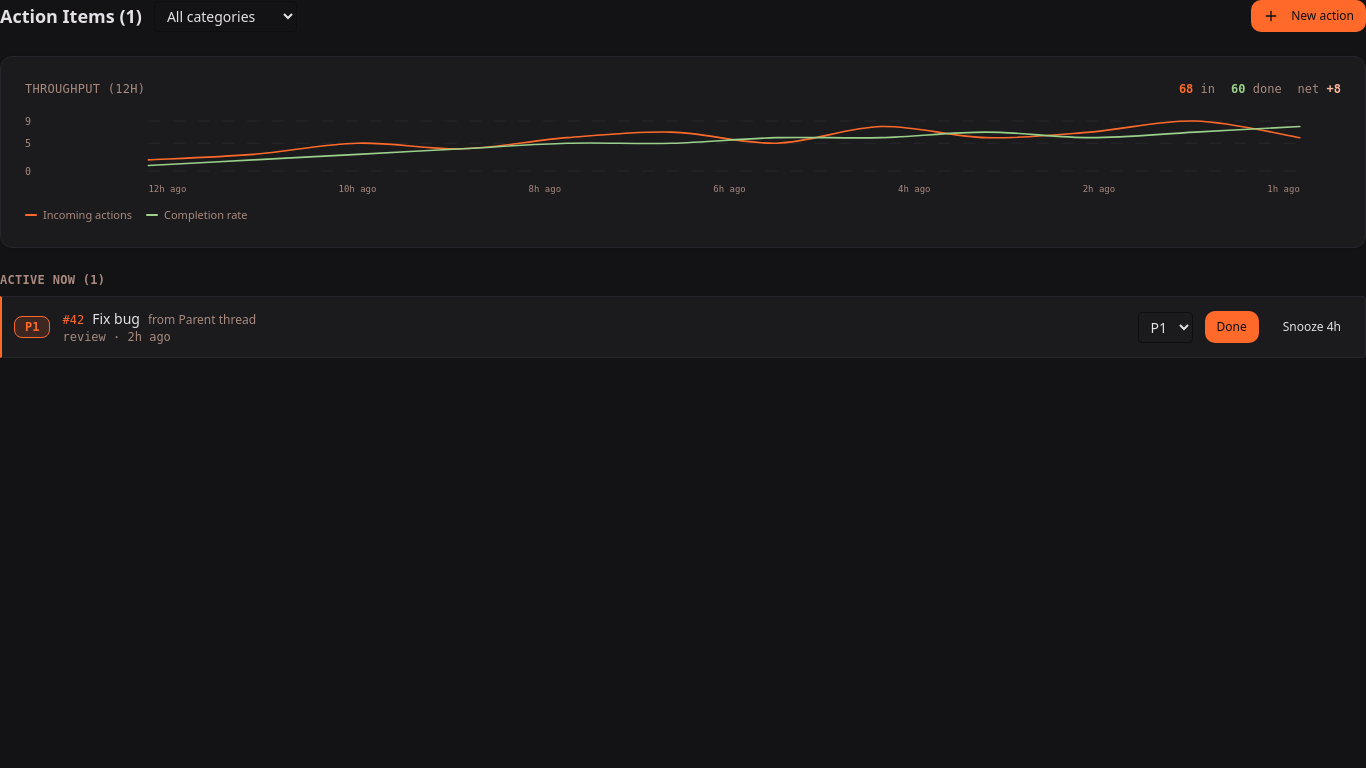
Test: Action Items page › creates a manual action via the header button (POST /api/actions)
The image size is (1366, 768).
Expected: the text "Fix bug" is shown, [92,309,140,328]
Click the button "New action": [1309, 16] box [1251,0,1365,32]
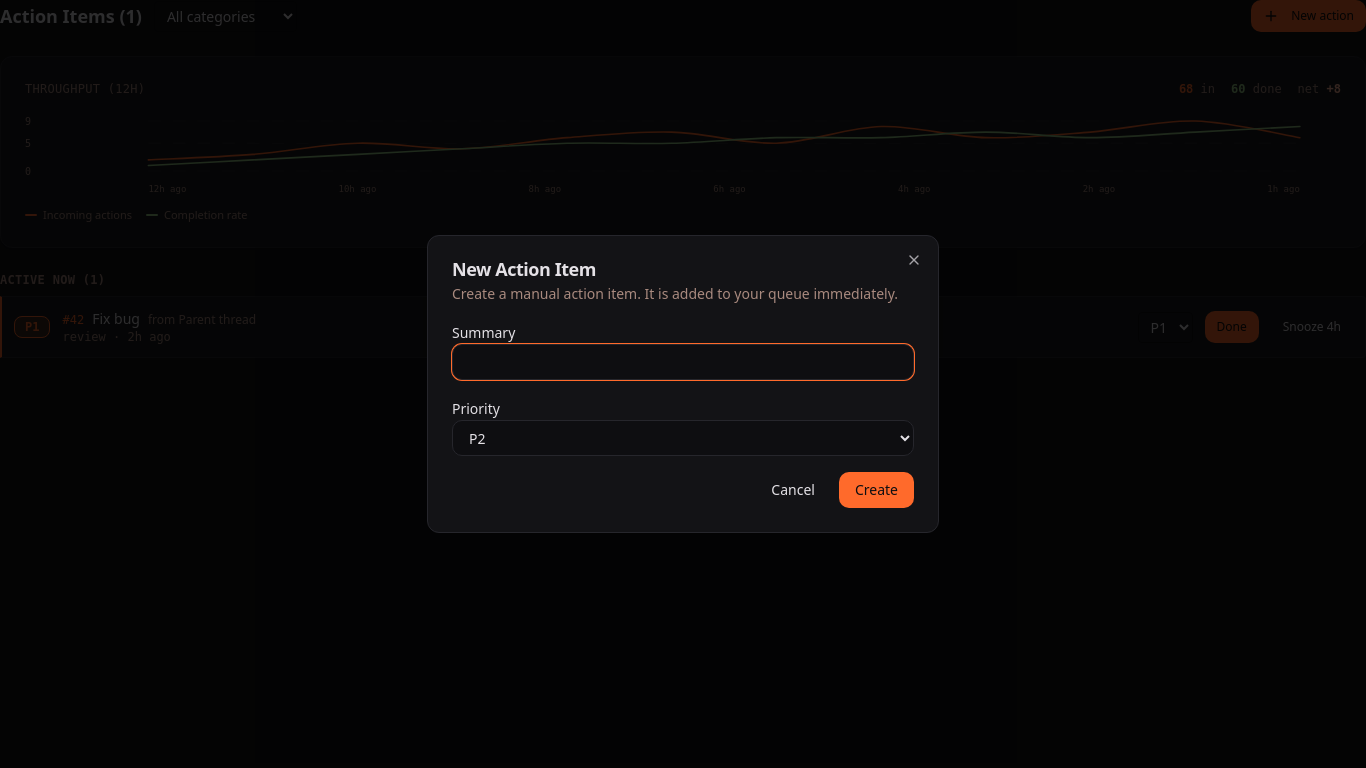
In the field labelled "Summary": [683, 362] box [452,344,914,380], type "Call vendor"
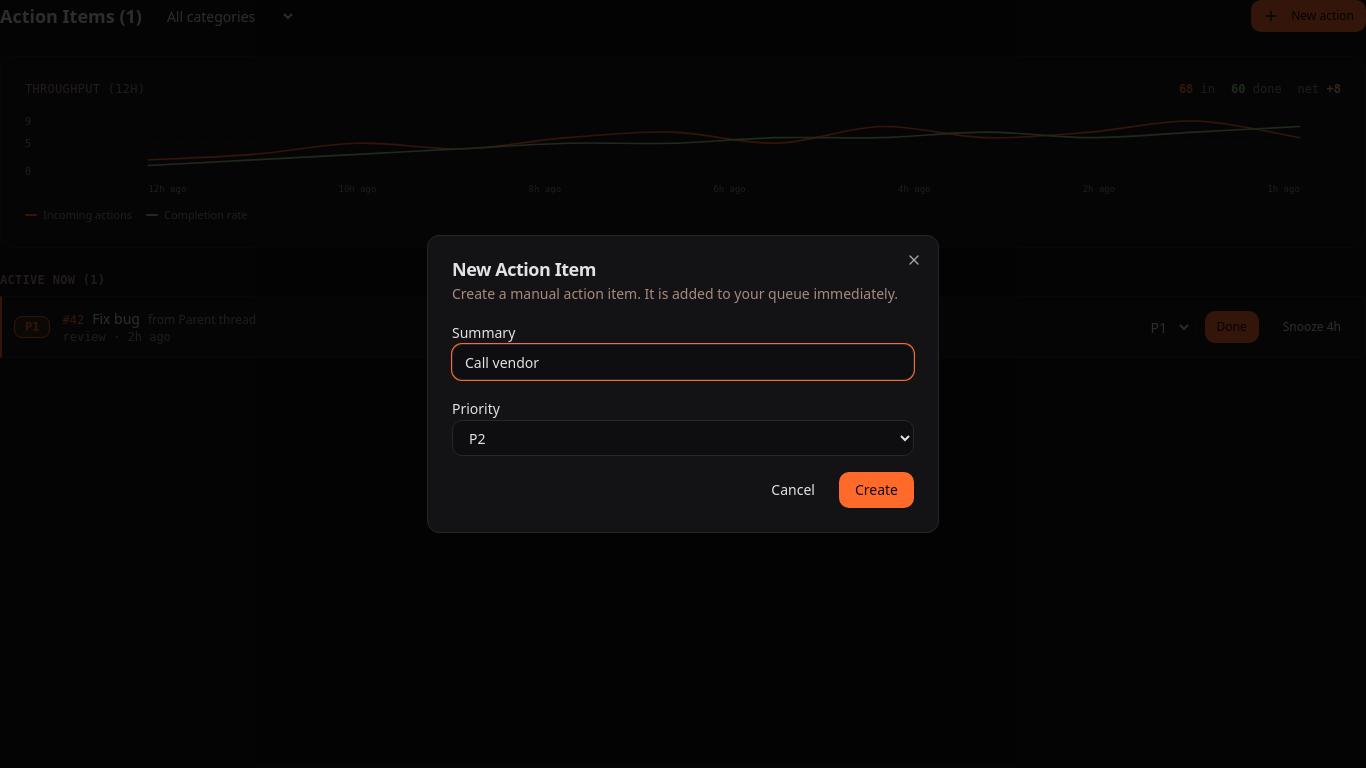
Click the button "Create": [876, 490] box [839,472,914,508]
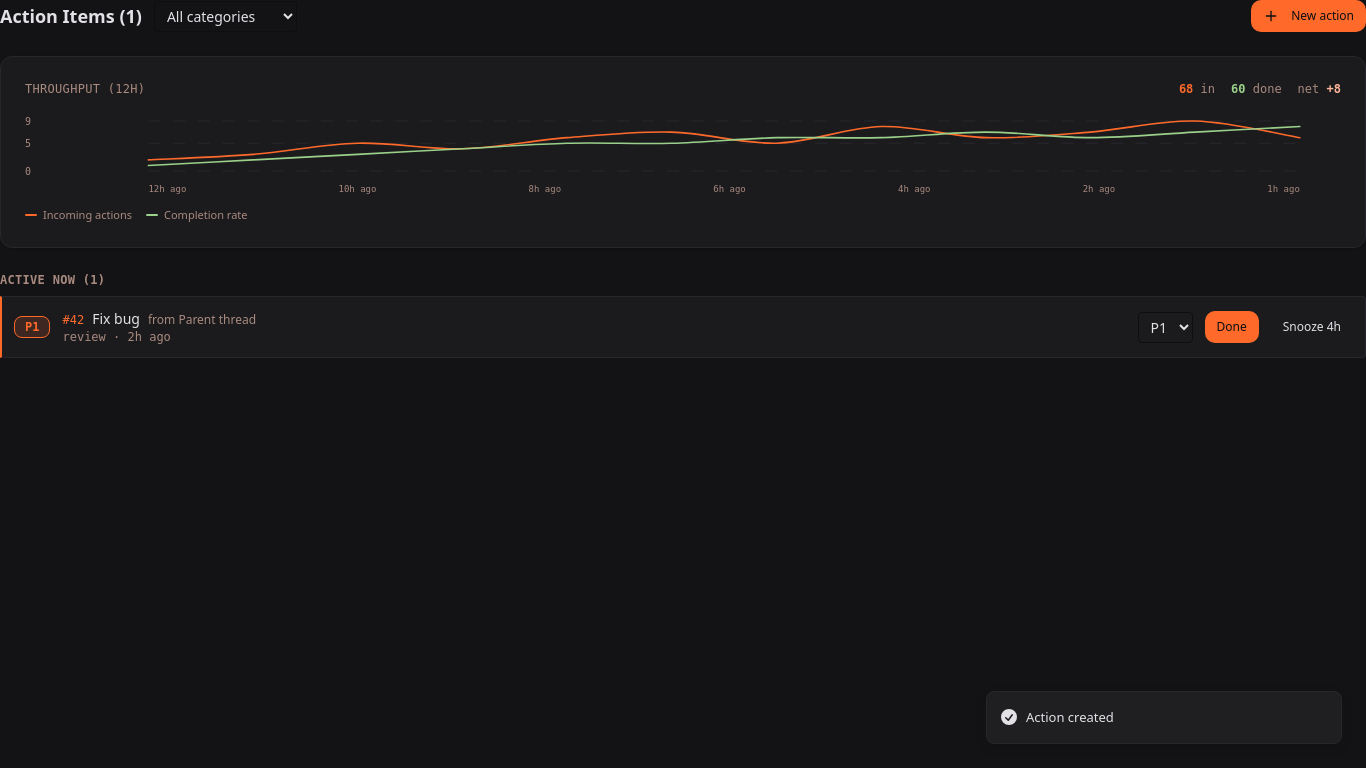
Expected: the text "Action created" is shown, [1026,708,1114,727]
